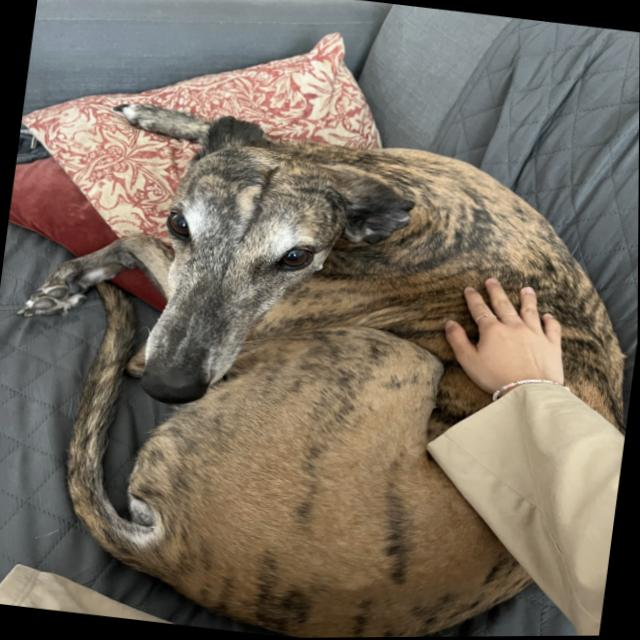dog-greyhound: (134, 105, 418, 425)
